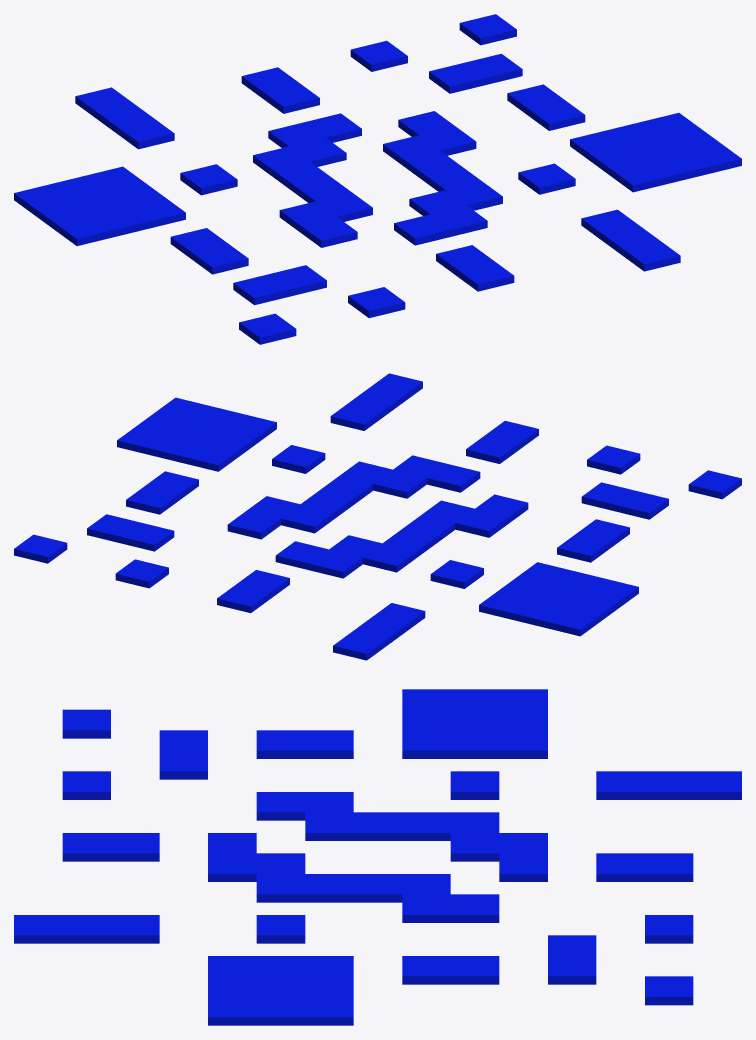
File: st_level_01.FBX
3 renders of one model, top to bottom at view 1: azimuth 30°, elevation 25°; view 2: azimuth 150°, elevation 25°; view 3: azimuth 270°, elevation 25°, orthographic. The views are drawn at different scales.
Parts seen in each view (by area): view 1: st_modules_064; view 2: st_modules_064; view 3: st_modules_064.
Part boxes in pixels (x1,y1,x2,y2): st_modules_064: [14, 14, 741, 344]; st_modules_064: [14, 373, 741, 660]; st_modules_064: [14, 689, 741, 1025].
Bounding box in the file's own units: 2560 × 30 × 2400.
